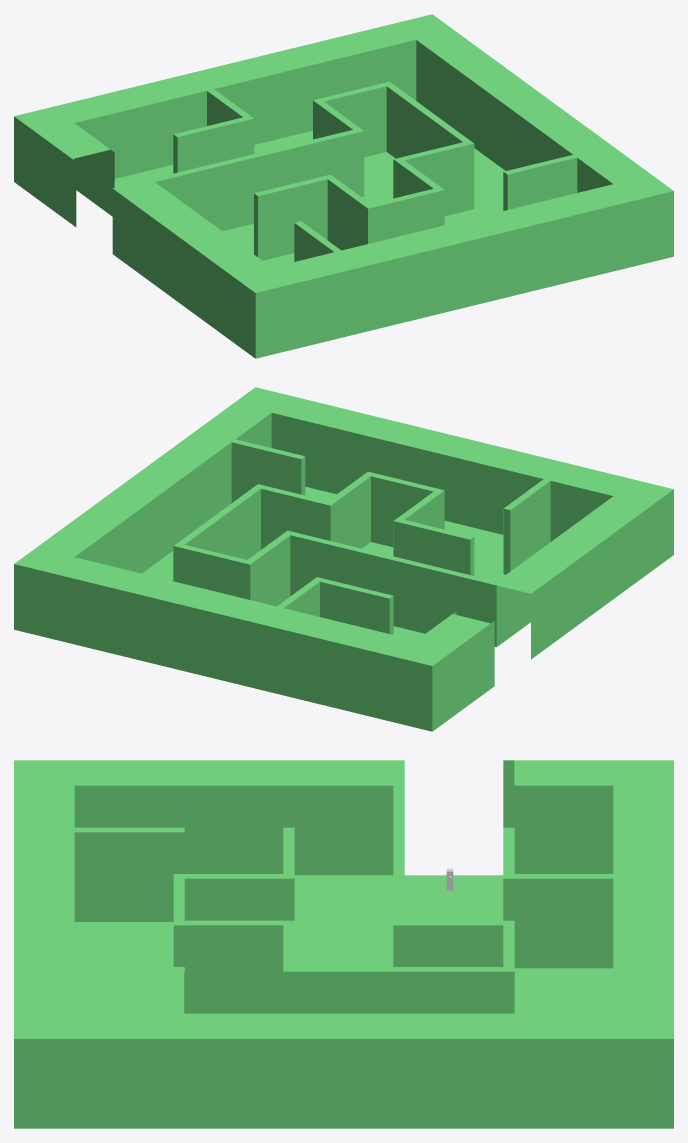
The model's file is maze.glb.
3 views of the same model, one above another, from view 1: azimuth 30°, elevation 25°; view 2: azimuth 150°, elevation 25°; view 3: azimuth 270°, elevation 25° (orthographic). The views are drawn at different scales.
Parts seen in each view (by area): view 1: Maze; view 2: Maze; view 3: Maze.
Part boxes in pixels (box(x1,y1,x2,y2)): Maze: box(14, 14, 673, 358); Maze: box(14, 387, 673, 731); Maze: box(14, 760, 673, 1128).
Size of the model in its own units: 200 by 30 by 200.
